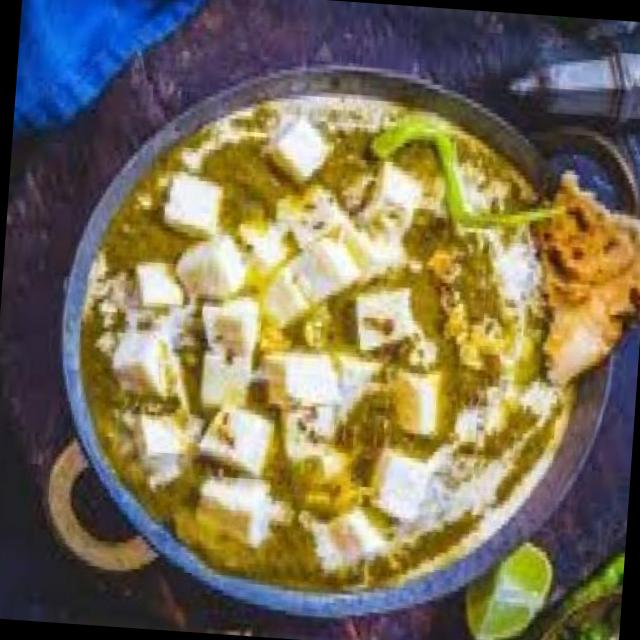palak_paneer: (64, 79, 596, 608)
